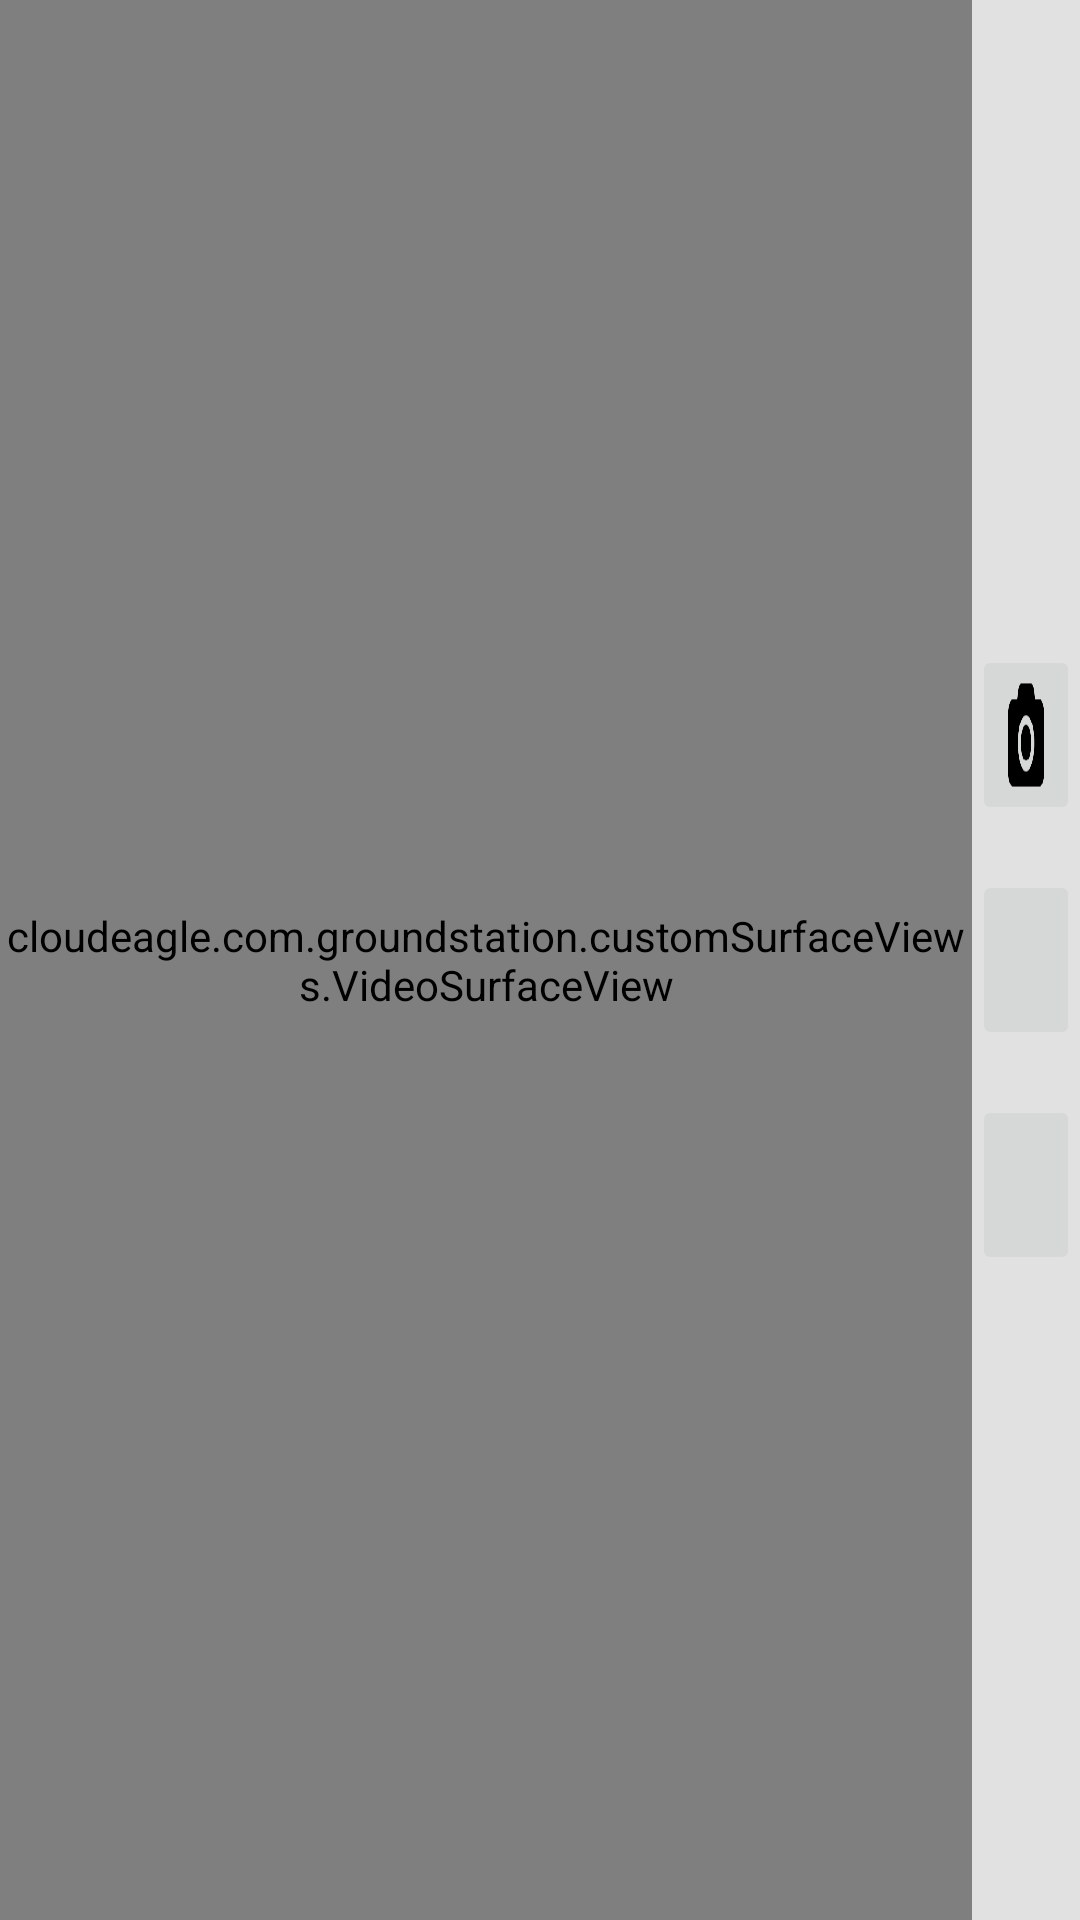

Screen size 1080w x 1920h. Icon name, then its center in pixels as (x=x, y=y):
camera: (x=1026, y=735)
